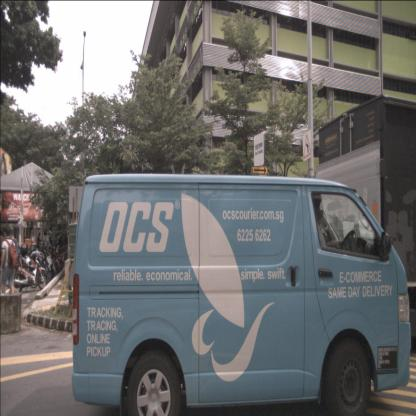human-pedestrian-adult: (0, 225, 19, 309), (6, 228, 23, 303), (36, 232, 42, 252)
vehicle-car: (72, 175, 411, 416)
vehicle-motorcycle: (20, 242, 55, 281), (11, 257, 47, 294), (17, 249, 51, 283)
vehicle-truck: (319, 94, 416, 340)
